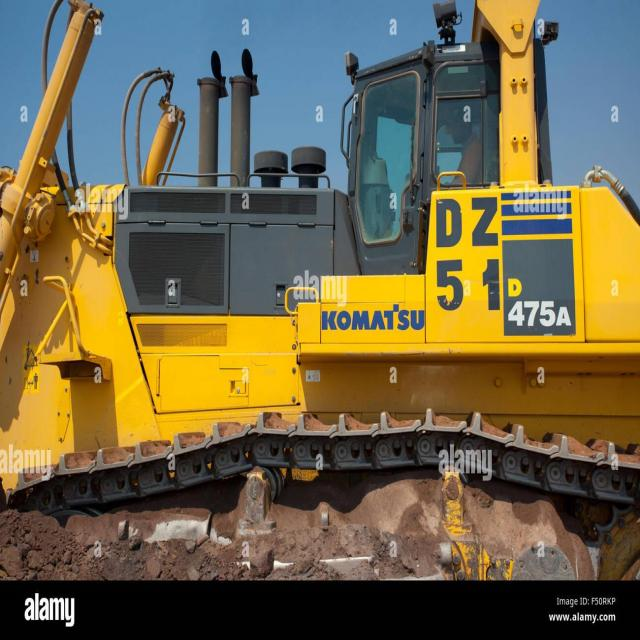Bulldozer: (4, 12, 639, 575)
